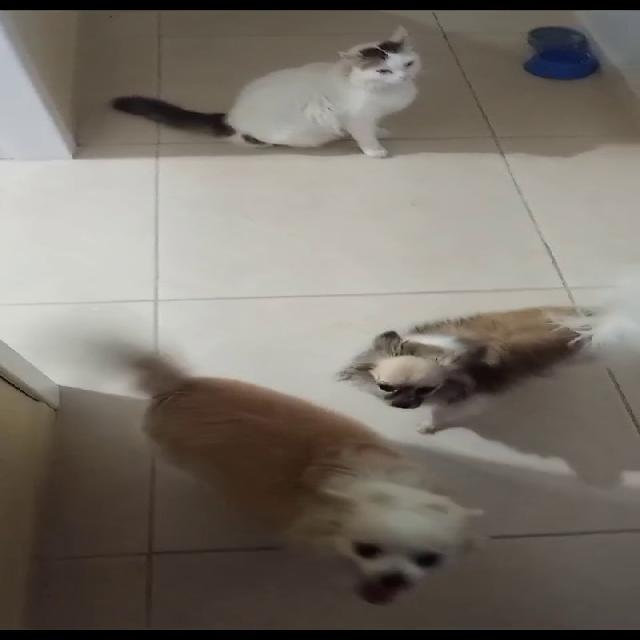Pedrita: (320, 270, 638, 429)
Simba: (168, 23, 468, 167)
Theo: (56, 302, 472, 623)
